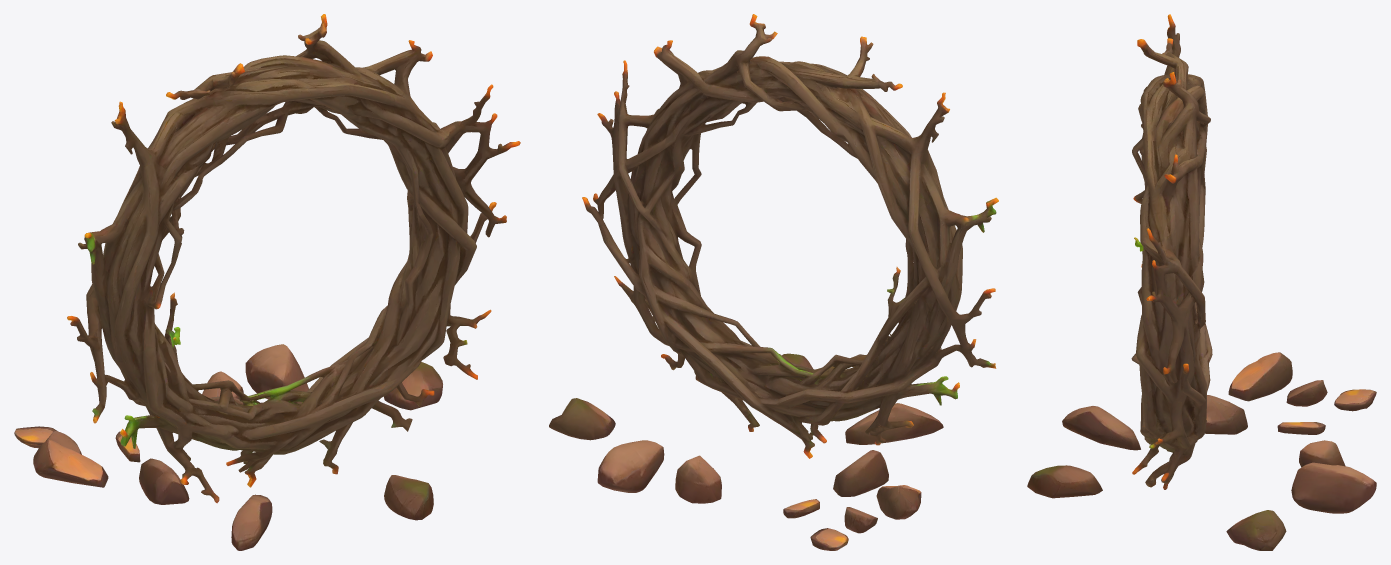
The model's file is bramble_ward_static.glb.
The picture shows the model from 3 angles, left to right: view 1: azimuth 30°, elevation 25°; view 2: azimuth 150°, elevation 25°; view 3: azimuth 270°, elevation 25°; orthographic projection. The views are drawn at different scales.
Bounding box in the file's own units: 1.91 × 1.9 × 1.45.
1 material, 1 textured.
